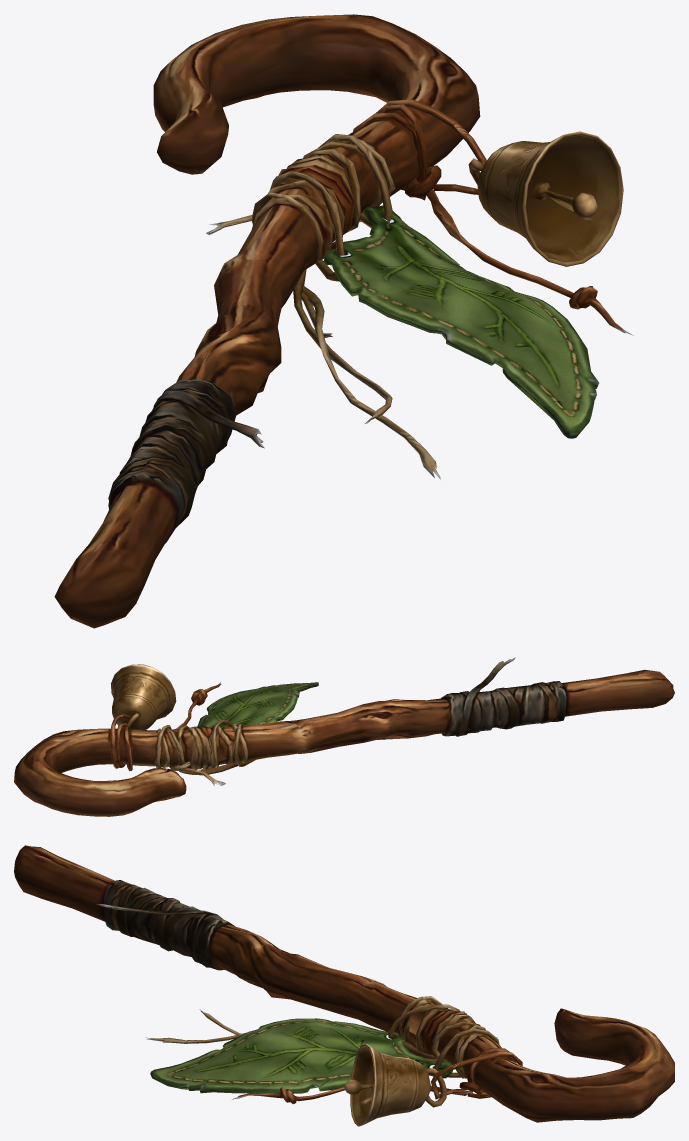
File: Weapon_CommandStaff.fbx
3 renders of one model, top to bottom at view 1: azimuth 30°, elevation 25°; view 2: azimuth 150°, elevation 25°; view 3: azimuth 270°, elevation 25°, orthographic. The views are drawn at different scales.
Parts seen in each view (by area): view 1: Weapon_CommandStaff; view 2: Weapon_CommandStaff; view 3: Weapon_CommandStaff.
Boxes of the visible parts, x1,y1,x2,y2 form: Weapon_CommandStaff: [54, 14, 633, 628]; Weapon_CommandStaff: [14, 657, 674, 816]; Weapon_CommandStaff: [14, 845, 674, 1126].
Bounding box in the file's own units: 0.5867 × 0.0916 × 0.65.
